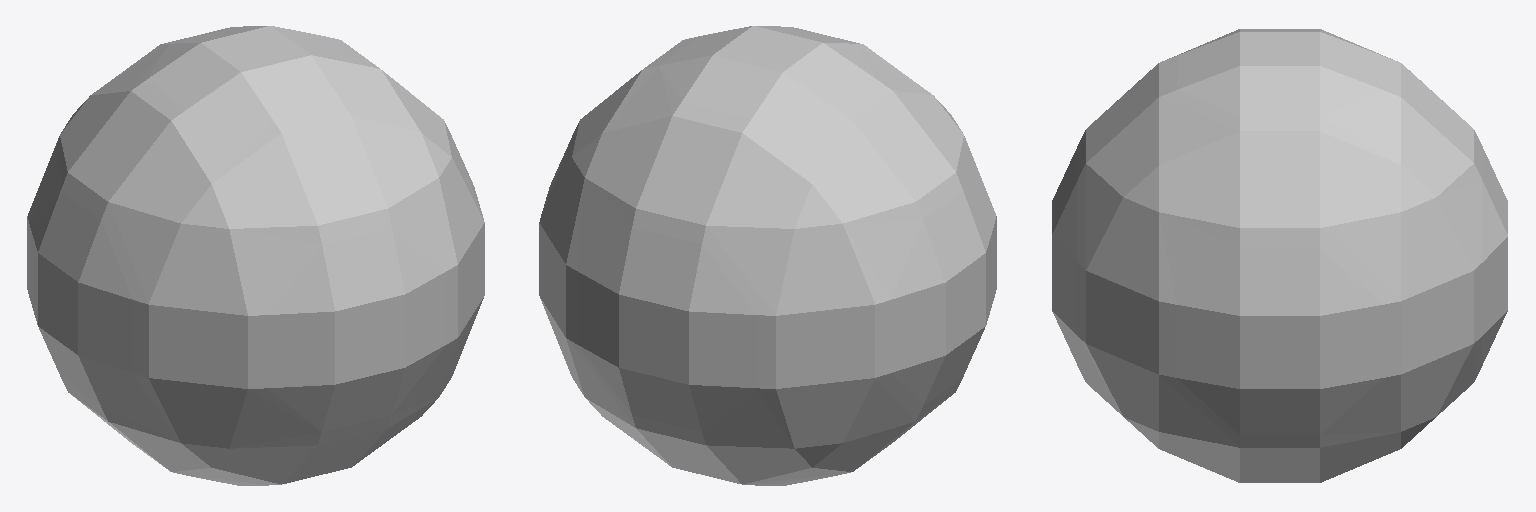
Rendered from light_sphere.obj.
3 views of the same model, side by side, from view 1: azimuth 30°, elevation 25°; view 2: azimuth 150°, elevation 25°; view 3: azimuth 270°, elevation 25° (orthographic).
Parts seen in each view (by area): view 1: Mball_Meta; view 2: Mball_Meta; view 3: Mball_Meta.
Part boxes in pixels (left/top/right/bottom): Mball_Meta: left=27, top=26, right=484, bottom=485; Mball_Meta: left=539, top=26, right=996, bottom=485; Mball_Meta: left=1052, top=29, right=1507, bottom=482.
Bounding box in the file's own units: 2.26 × 2.26 × 2.26.